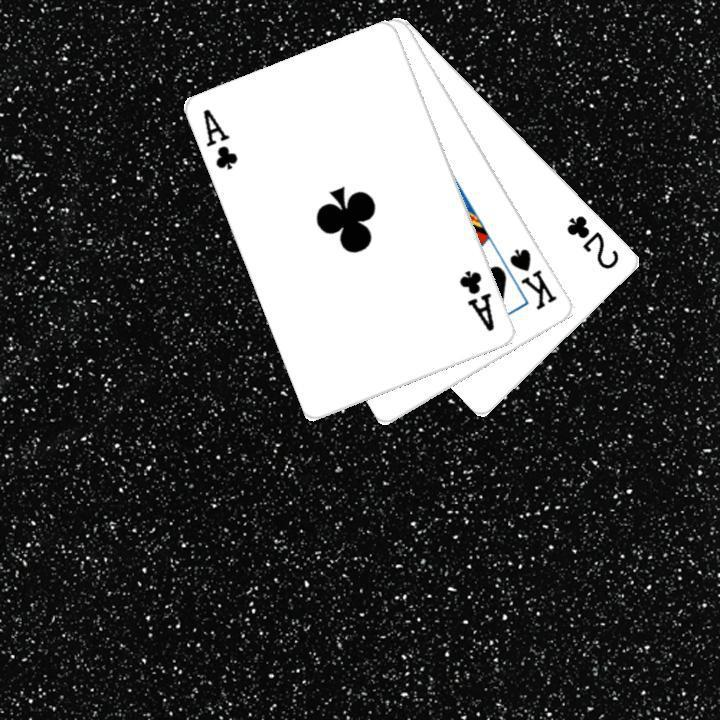2: (562, 210, 622, 272)
A: (455, 266, 497, 334), (199, 105, 241, 172)
K: (505, 244, 560, 312)
